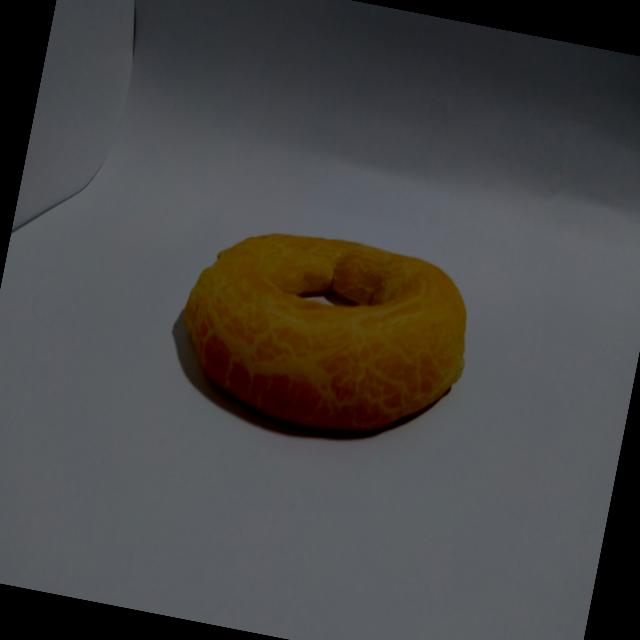Chipa: (157, 193, 495, 478)
